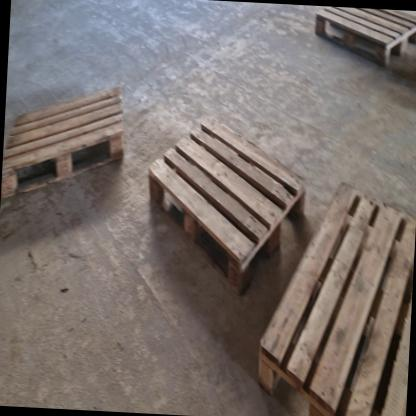BoxFace: (257, 179, 416, 416), (147, 113, 308, 300), (2, 82, 124, 200), (312, 6, 416, 72)
